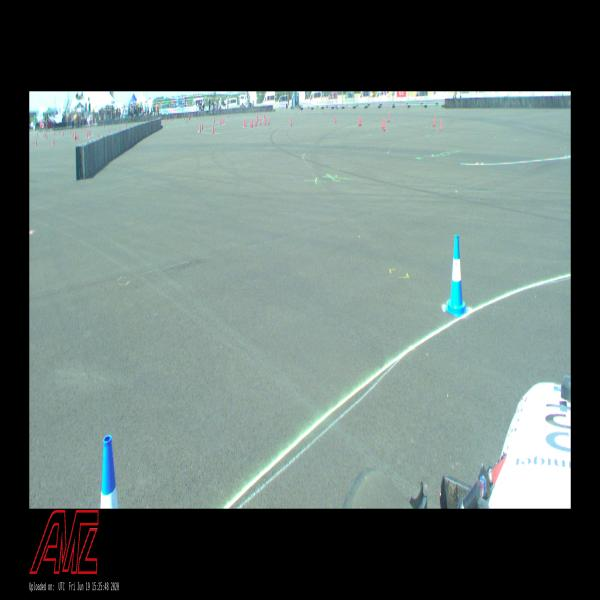blue_cone: (444, 235, 468, 318), (100, 435, 118, 509)
unknown_cone: (383, 119, 386, 131), (359, 115, 362, 126), (381, 118, 384, 128), (387, 113, 390, 122), (334, 114, 337, 123), (440, 118, 442, 130), (52, 138, 55, 146), (433, 116, 435, 126), (358, 116, 360, 126), (212, 124, 214, 134), (290, 117, 292, 126), (35, 138, 37, 146), (268, 117, 270, 124), (199, 125, 201, 132)
